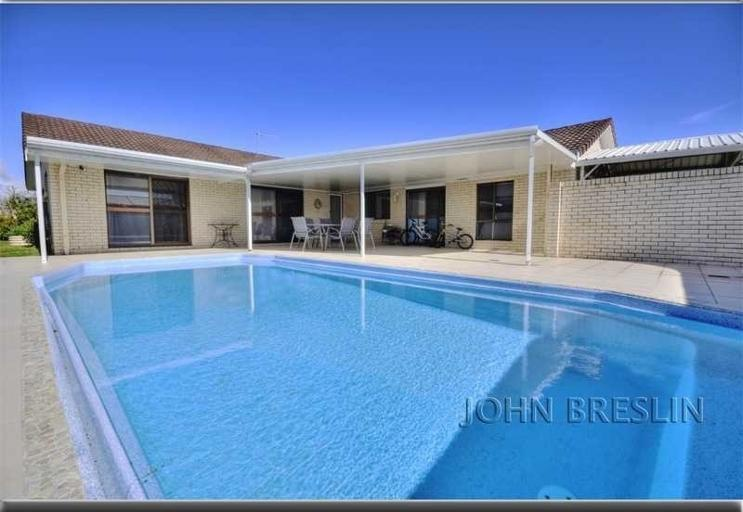non-vehicle: (434, 215, 474, 250), (399, 217, 439, 245)
